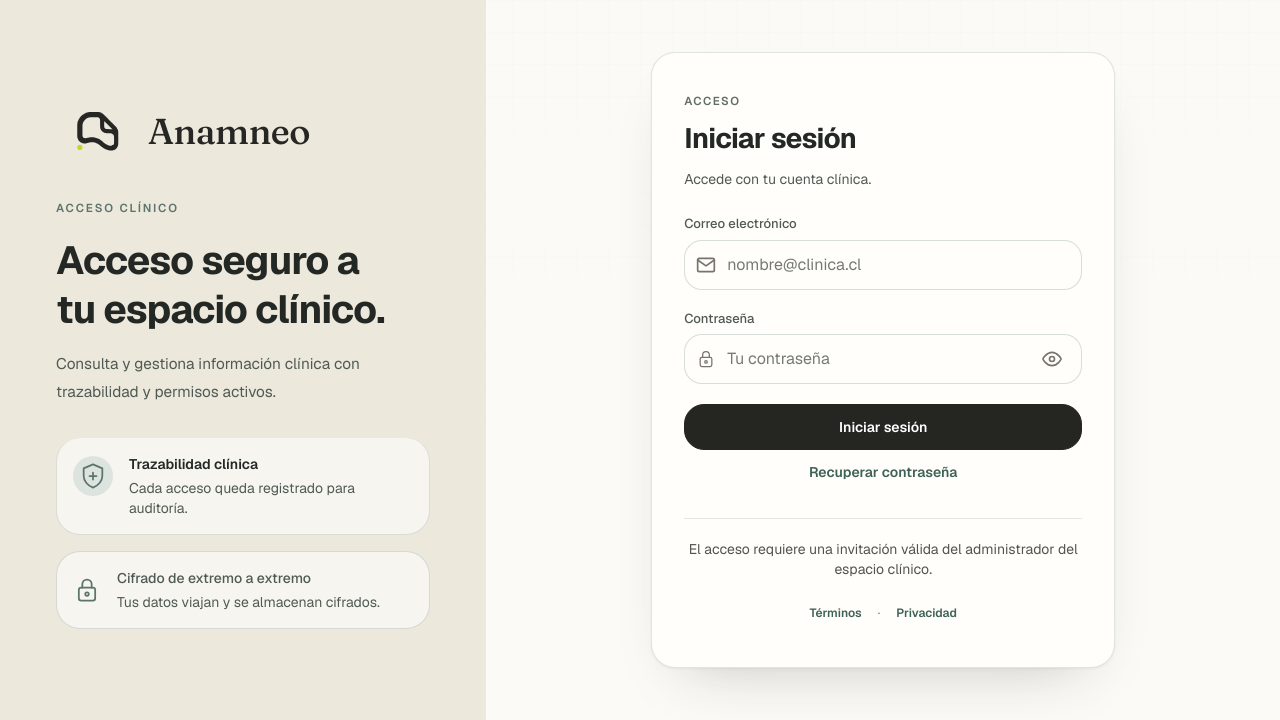
LoginPage › shows error on 401 response
Type "doc@test.cl" into the field labelled "Correo electrónico" at coordinates (883, 264), box [684,240,1082,290]
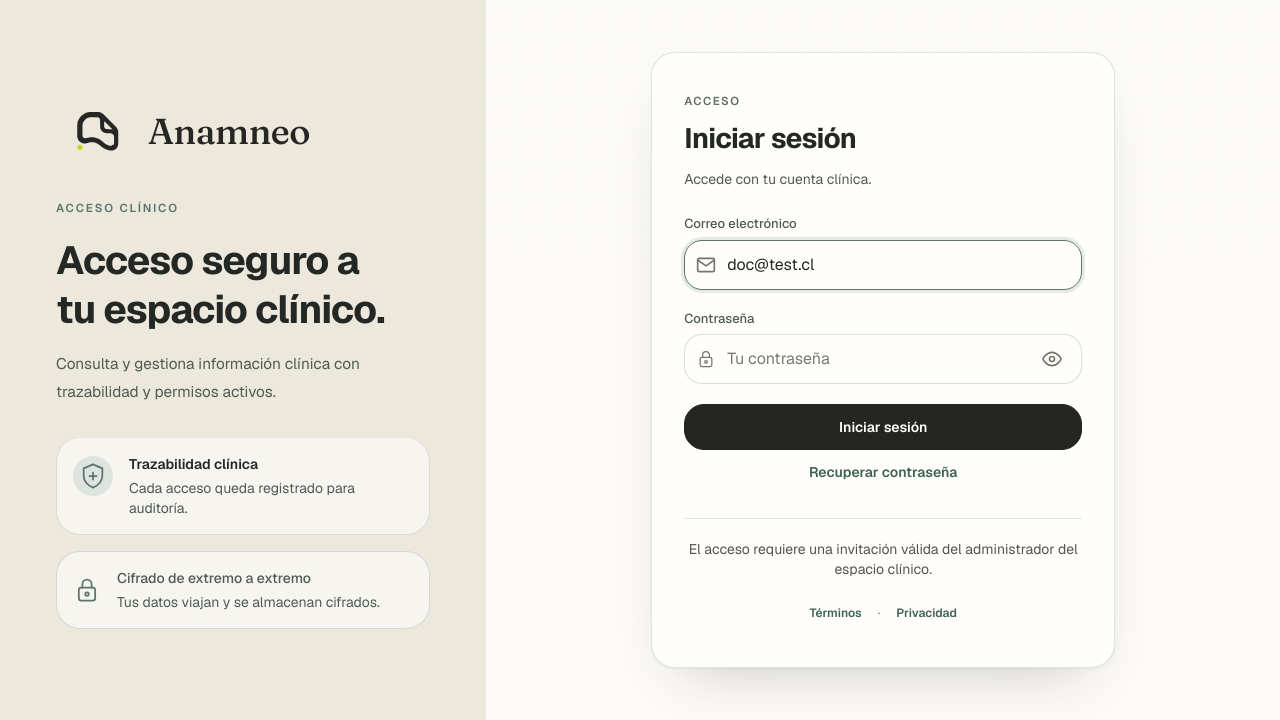
Type "wrong" into the password field labelled "Contraseña" at coordinates (883, 359), box [684,334,1082,384]
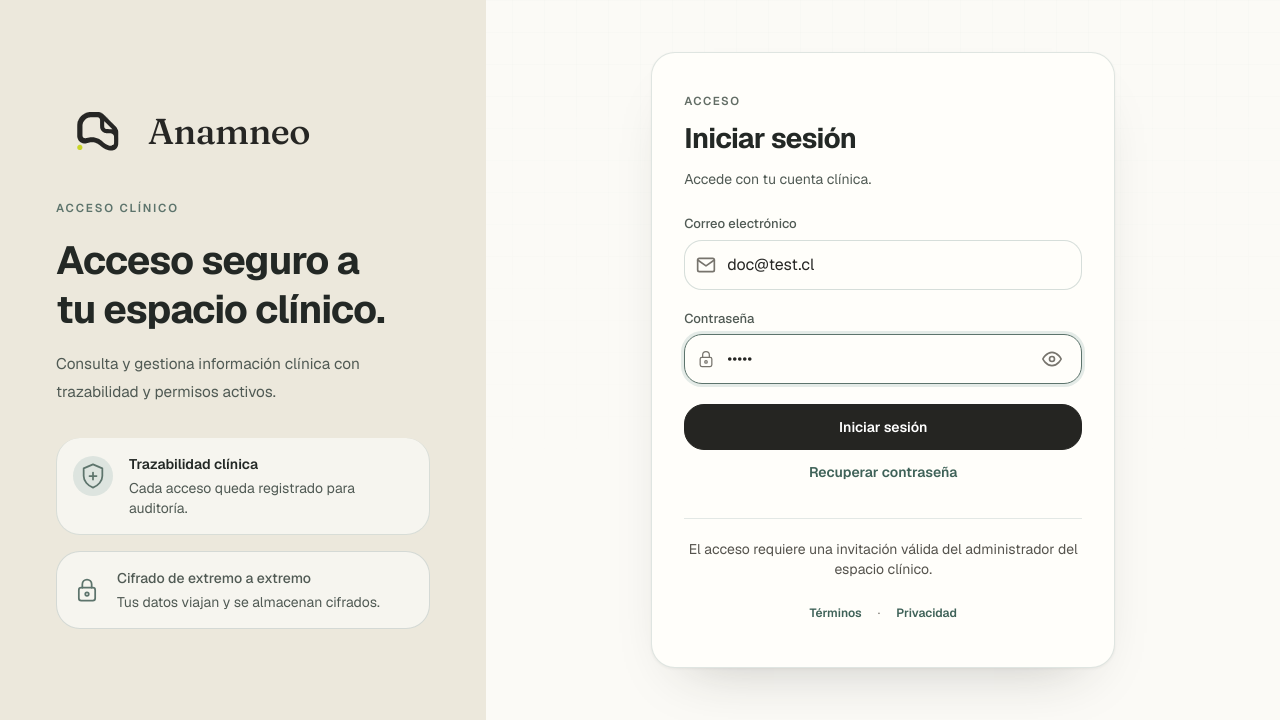
Click the button "Iniciar sesión" at coordinates (883, 427), box [684,404,1082,450]
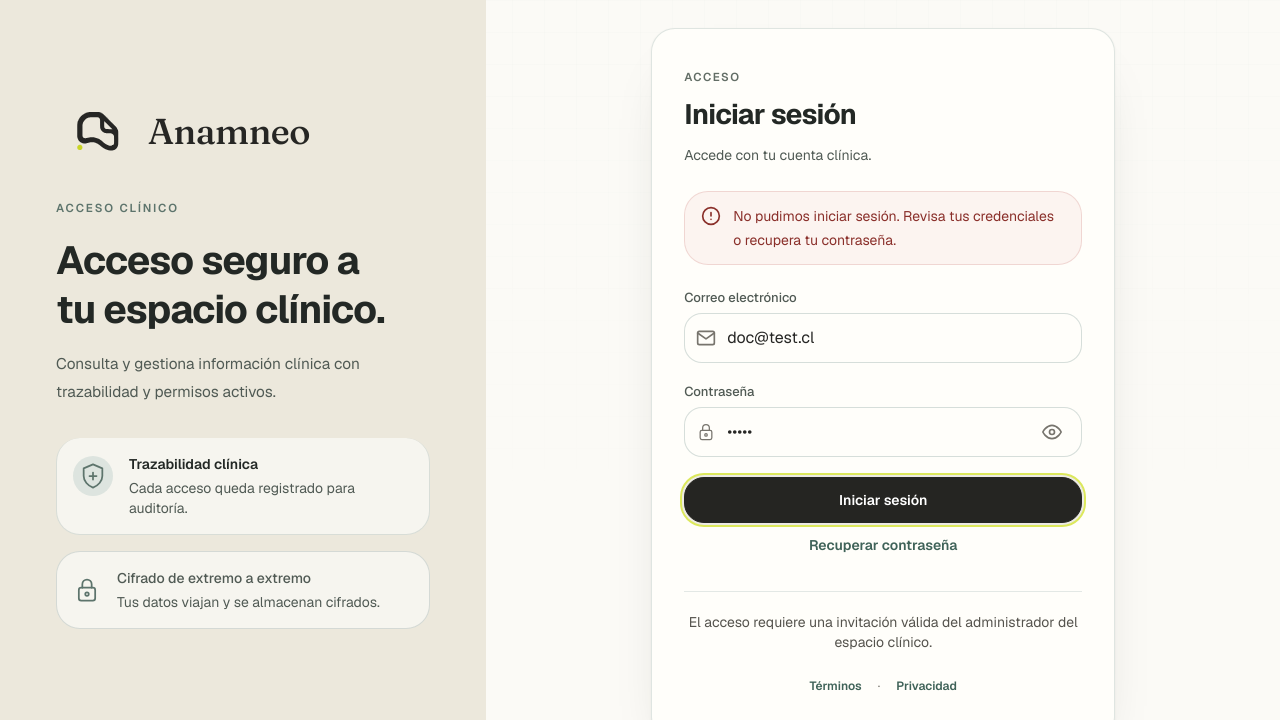
expect the text "No pudimos iniciar sesión. Revisa tus credenciales o recupera tu contraseña." is shown: met, box [733,204,1065,252]
